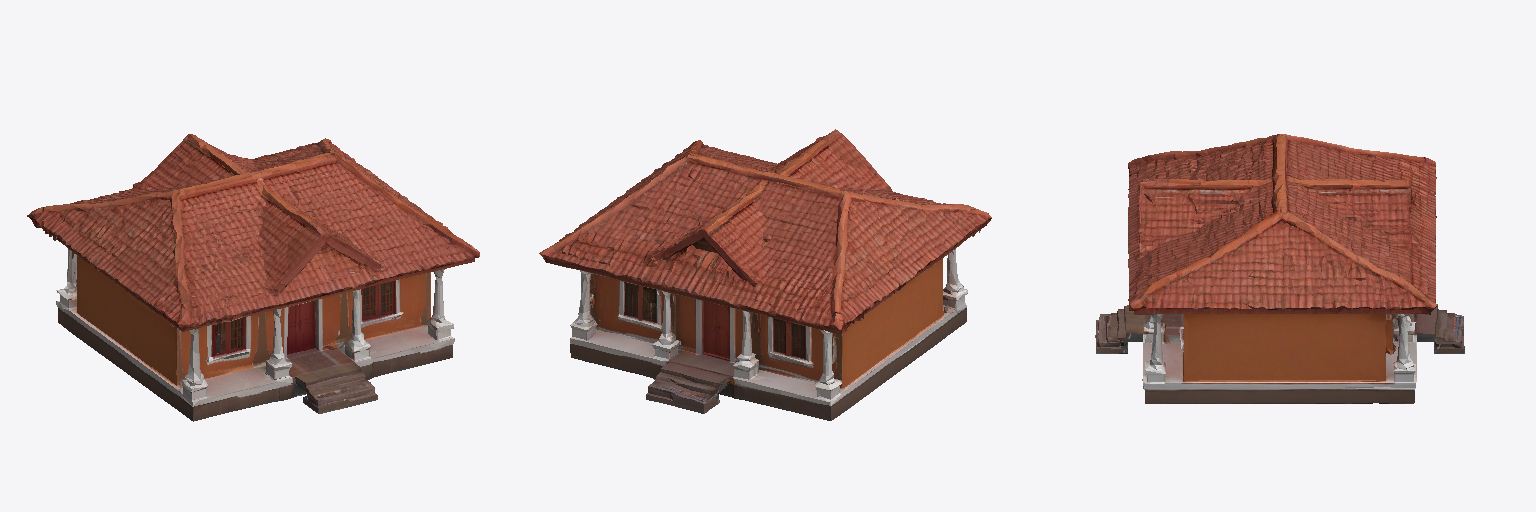
The picture shows the model from 3 angles: view 1: azimuth 30°, elevation 25°; view 2: azimuth 150°, elevation 25°; view 3: azimuth 270°, elevation 25°; orthographic projection.
Visible parts, largest first — view 1: obj1; view 2: obj1; view 3: obj1.
Part boxes in pixels (x1,y1,x2,y2): obj1: (27,134,479,421); obj1: (539,129,991,420); obj1: (1095,134,1464,403).
Bounding box in the file's own units: 1.9 × 1.01 × 1.99.
Materials: 1 (1 with a texture image).